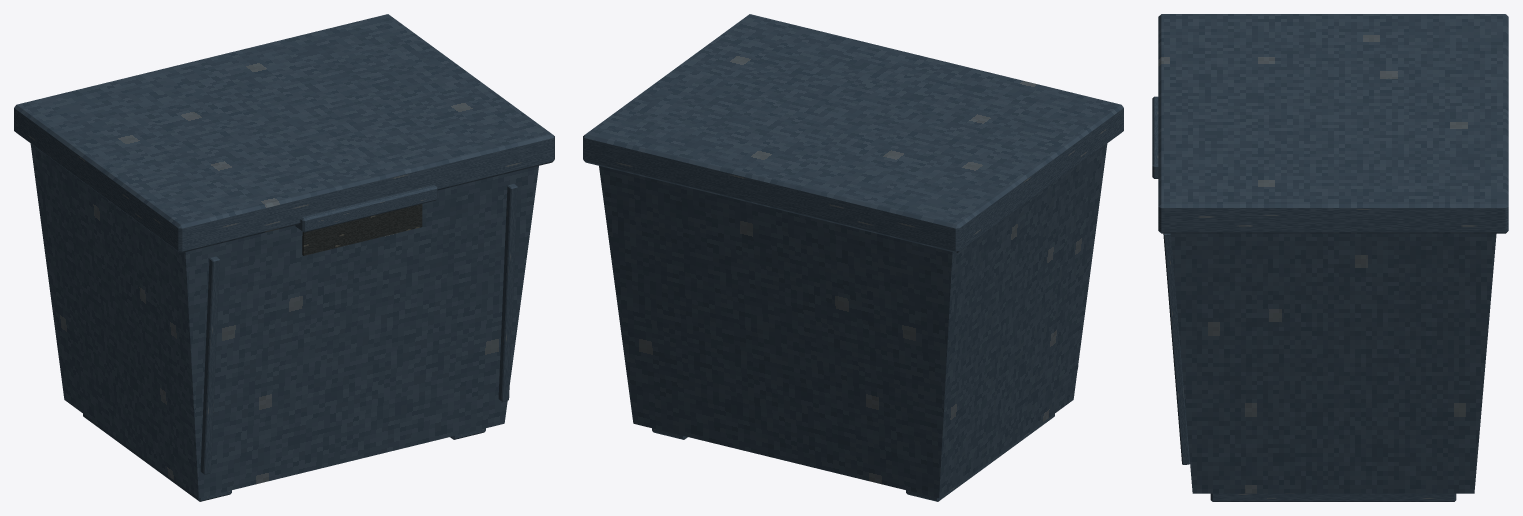
File: lidded_storage_bin.glb
3 renders of one model, left to right at view 1: azimuth 30°, elevation 25°; view 2: azimuth 150°, elevation 25°; view 3: azimuth 270°, elevation 25°, orthographic. The views are drawn at different scales.
Visible parts, largest first — view 1: lidded_storage_bin; view 2: lidded_storage_bin; view 3: lidded_storage_bin.
Boxes of the visible parts, bbox=[...] form: lidded_storage_bin: bbox=[14, 14, 554, 501]; lidded_storage_bin: bbox=[583, 14, 1123, 501]; lidded_storage_bin: bbox=[1152, 14, 1508, 501].
Size of the model in its own units: 0.445 by 0.345 by 0.348.
2 materials, 2 textured.
